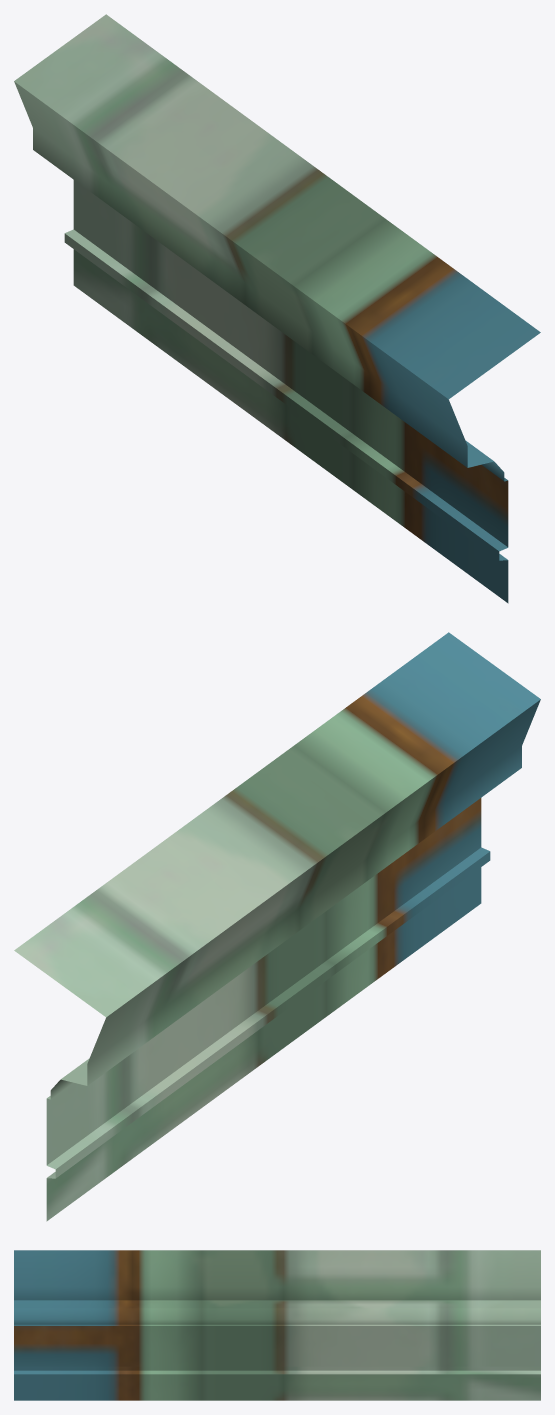
File: qVin_Buld1_F1CarniseLong.fbx
The picture shows the model from 3 angles, top to bottom: view 1: azimuth 30°, elevation 25°; view 2: azimuth 150°, elevation 25°; view 3: azimuth 270°, elevation 25°; orthographic projection. The views are drawn at different scales.
Visible parts, largest first — view 1: qVin_Buld1_F1CarniseLong; view 2: qVin_Buld1_F1CarniseLong; view 3: qVin_Buld1_F1CarniseLong.
Part boxes in pixels (<box>): qVin_Buld1_F1CarniseLong: <box>14,14,540,603</box>; qVin_Buld1_F1CarniseLong: <box>14,632,540,1221</box>; qVin_Buld1_F1CarniseLong: <box>14,1250,540,1400</box>.
Bounding box in the file's own units: 36.73 × 100 × 300.
Materials: 1 (1 with a texture image).
